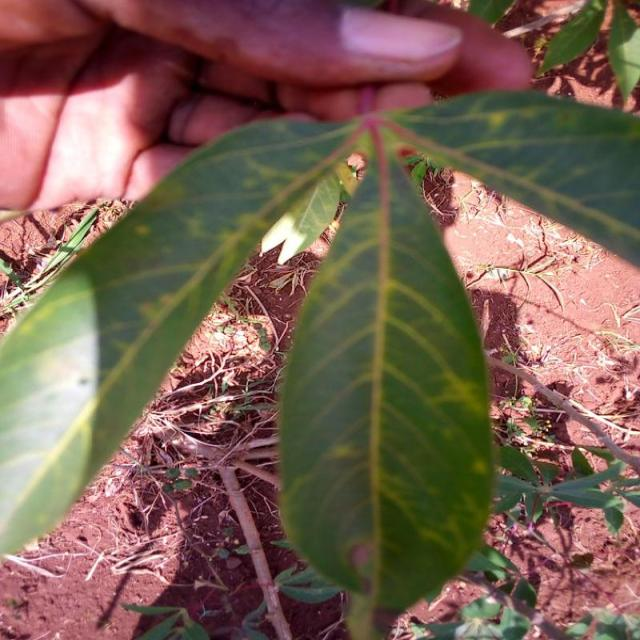cassava leaf: (0, 86, 638, 592), (277, 145, 495, 629)
